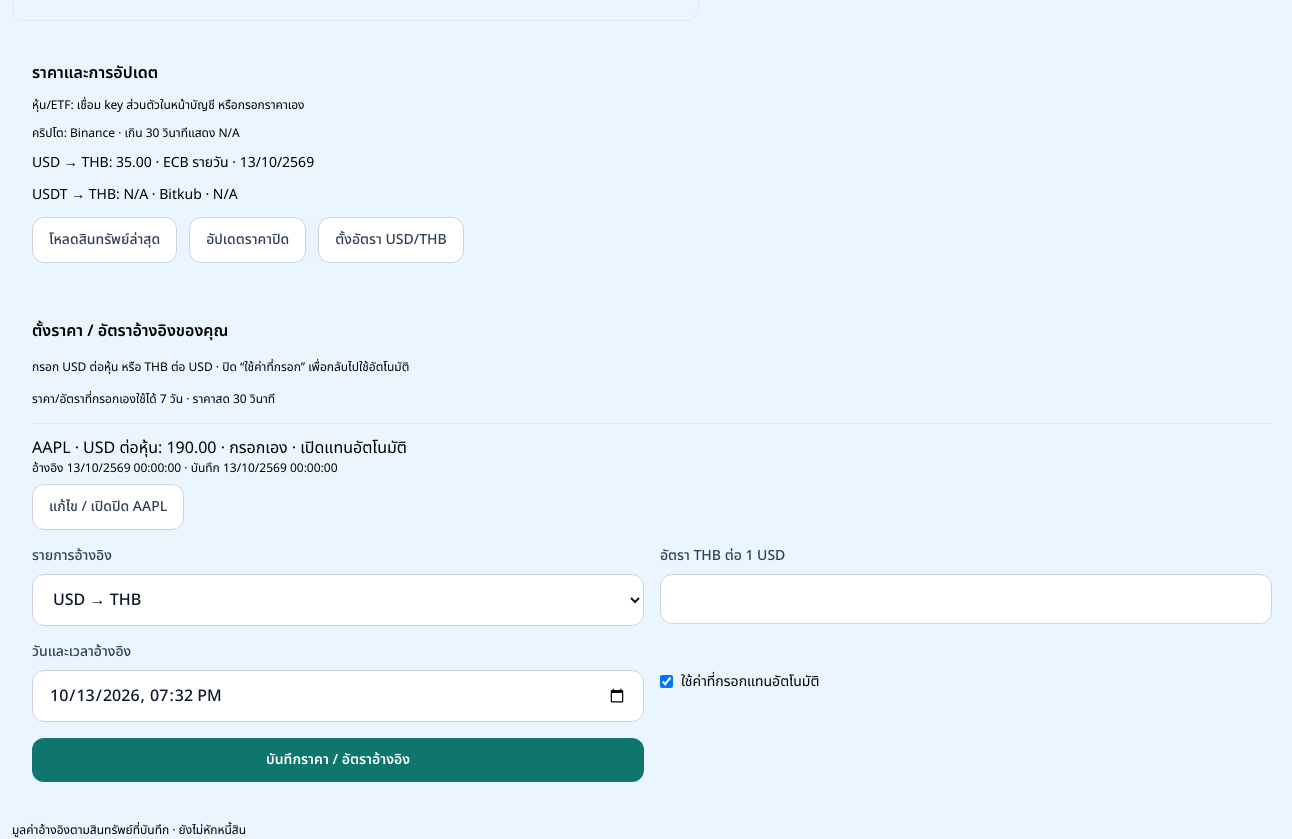
Test: Alpaca IEX events reach Assets without reload or manual entry › keeps a manual override over a live price and returns to automatic without deleting it
The image size is (1292, 839).
(page scrolled)
Click the button "แก้ไข / เปิดปิด AAPL" at (108, 506), box x1=32 y1=484 x2=184 y2=530
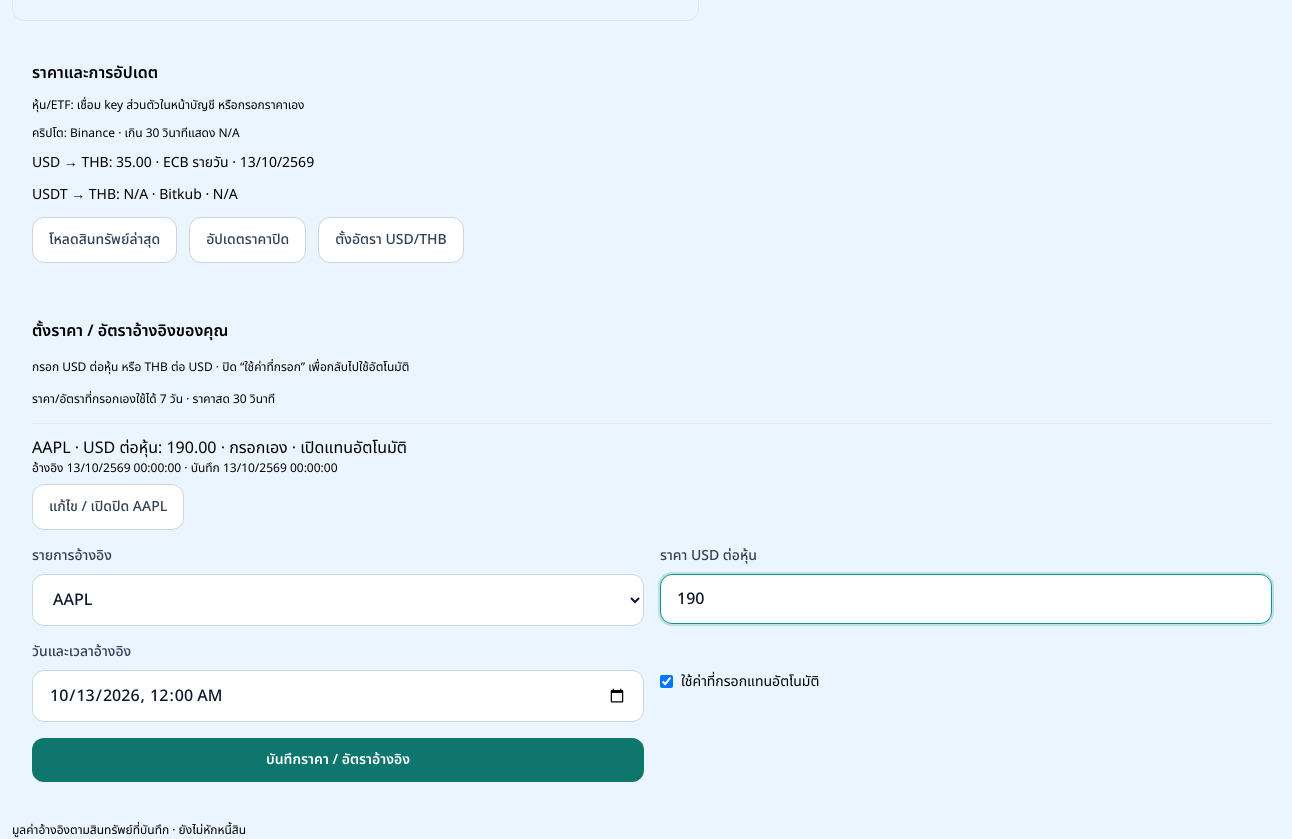
Click the checkbox labelled "ใช้ค่าที่กรอกแทนอัตโนมัติ" at (666, 682), box x1=660 y1=675 x2=673 y2=688
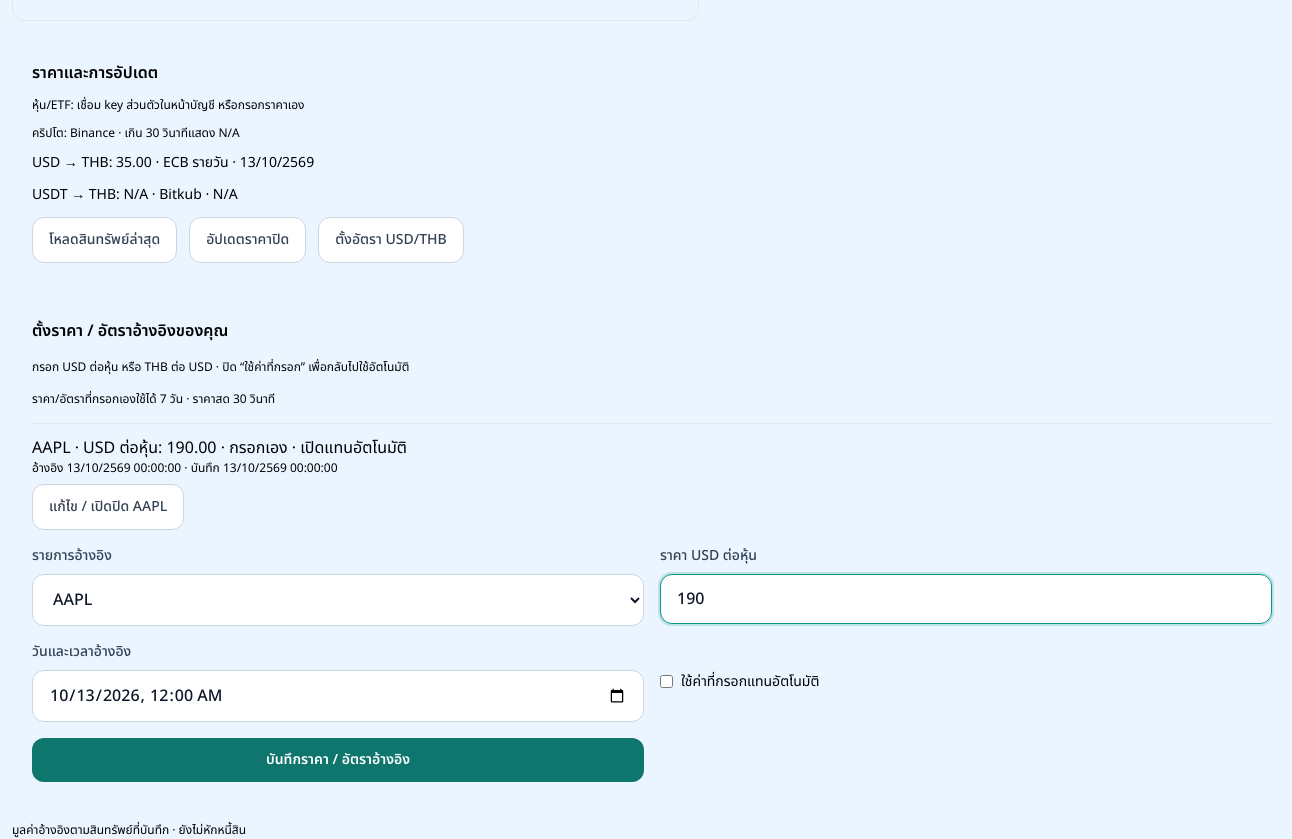
Submit the form named "บันทึกราคาอ้างอิง", box x1=32 y1=546 x2=1272 y2=782
(page scrolled)
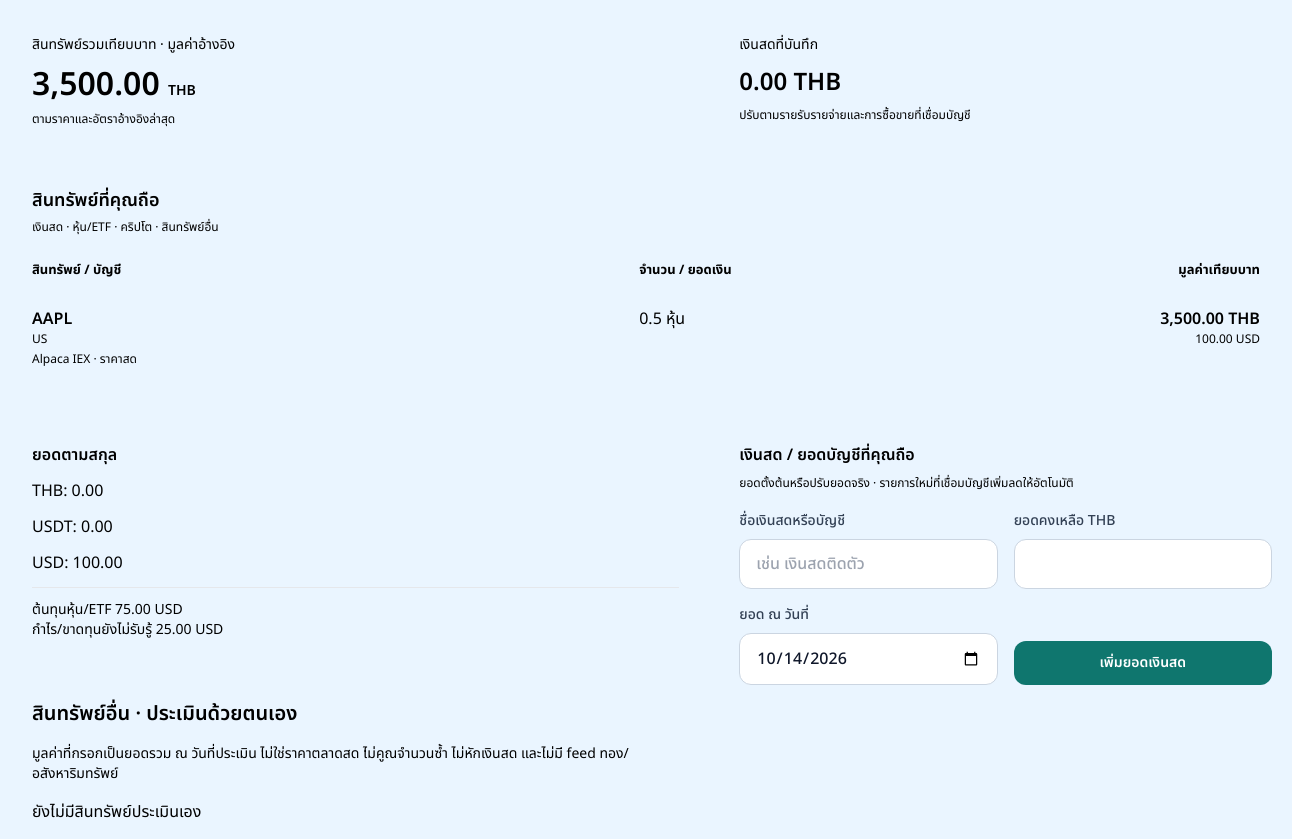
Now the element with test id "assets-total" shows "3,500.00", box x1=32 y1=61 x2=160 y2=109
Now the row "AAPL US Alpaca IEX · ราคาสด 0.5 หุ้น 3,500.00 THB 100.00 USD" is shown, box x1=32 y1=290 x2=1272 y2=382
